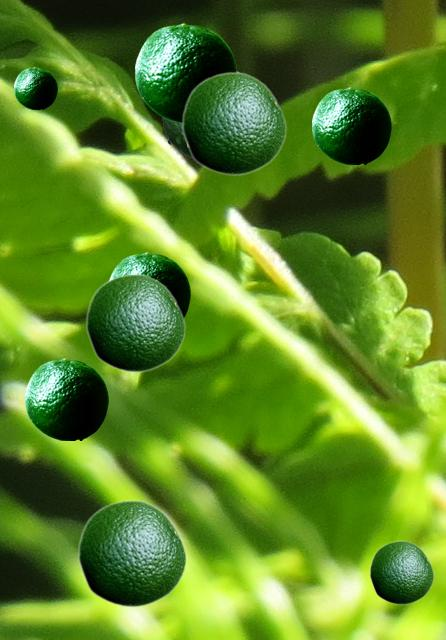calamansi: (77, 499, 186, 607), (181, 71, 286, 175), (85, 273, 185, 372), (135, 23, 235, 121), (25, 358, 107, 439), (162, 70, 237, 158), (312, 87, 390, 163), (109, 252, 189, 317), (369, 540, 433, 604), (14, 67, 56, 108)
